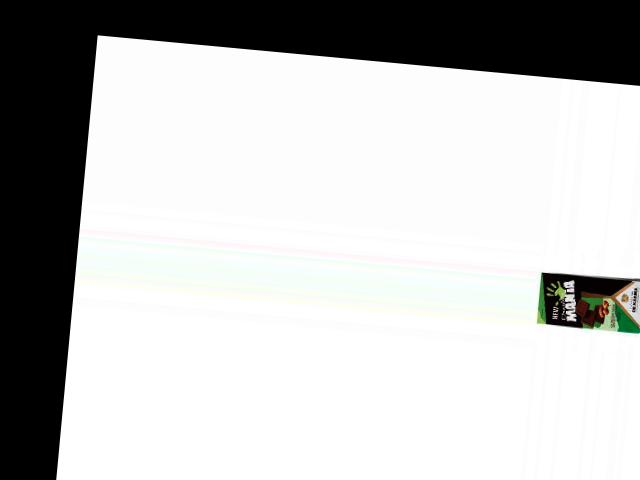chocolate: (534, 268, 640, 336)
